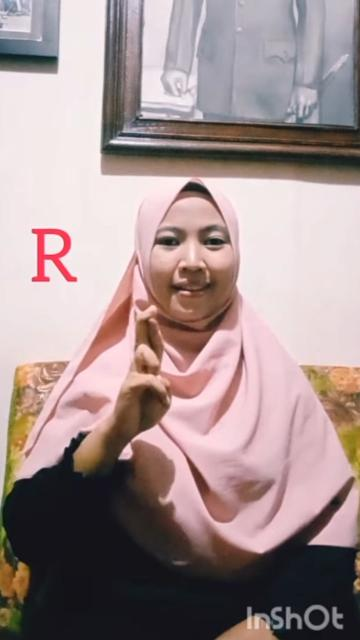R: (117, 302, 178, 438)
